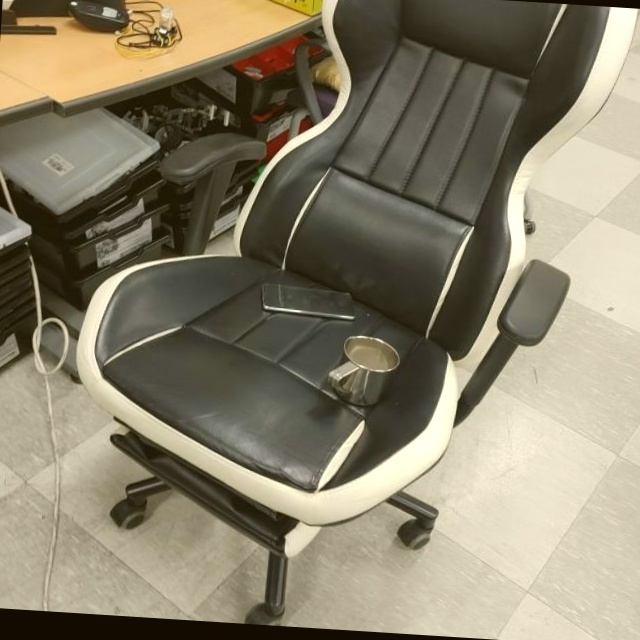cup: (324, 333, 404, 413)
phone: (257, 282, 360, 320)
